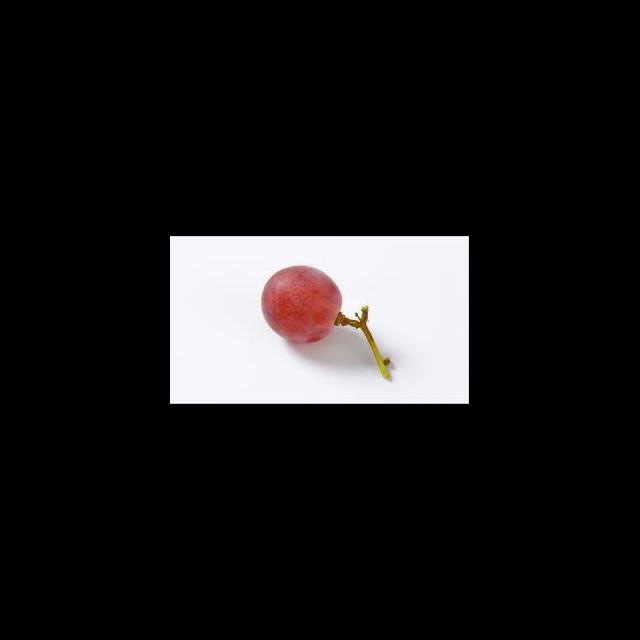grape: (260, 264, 342, 344)
